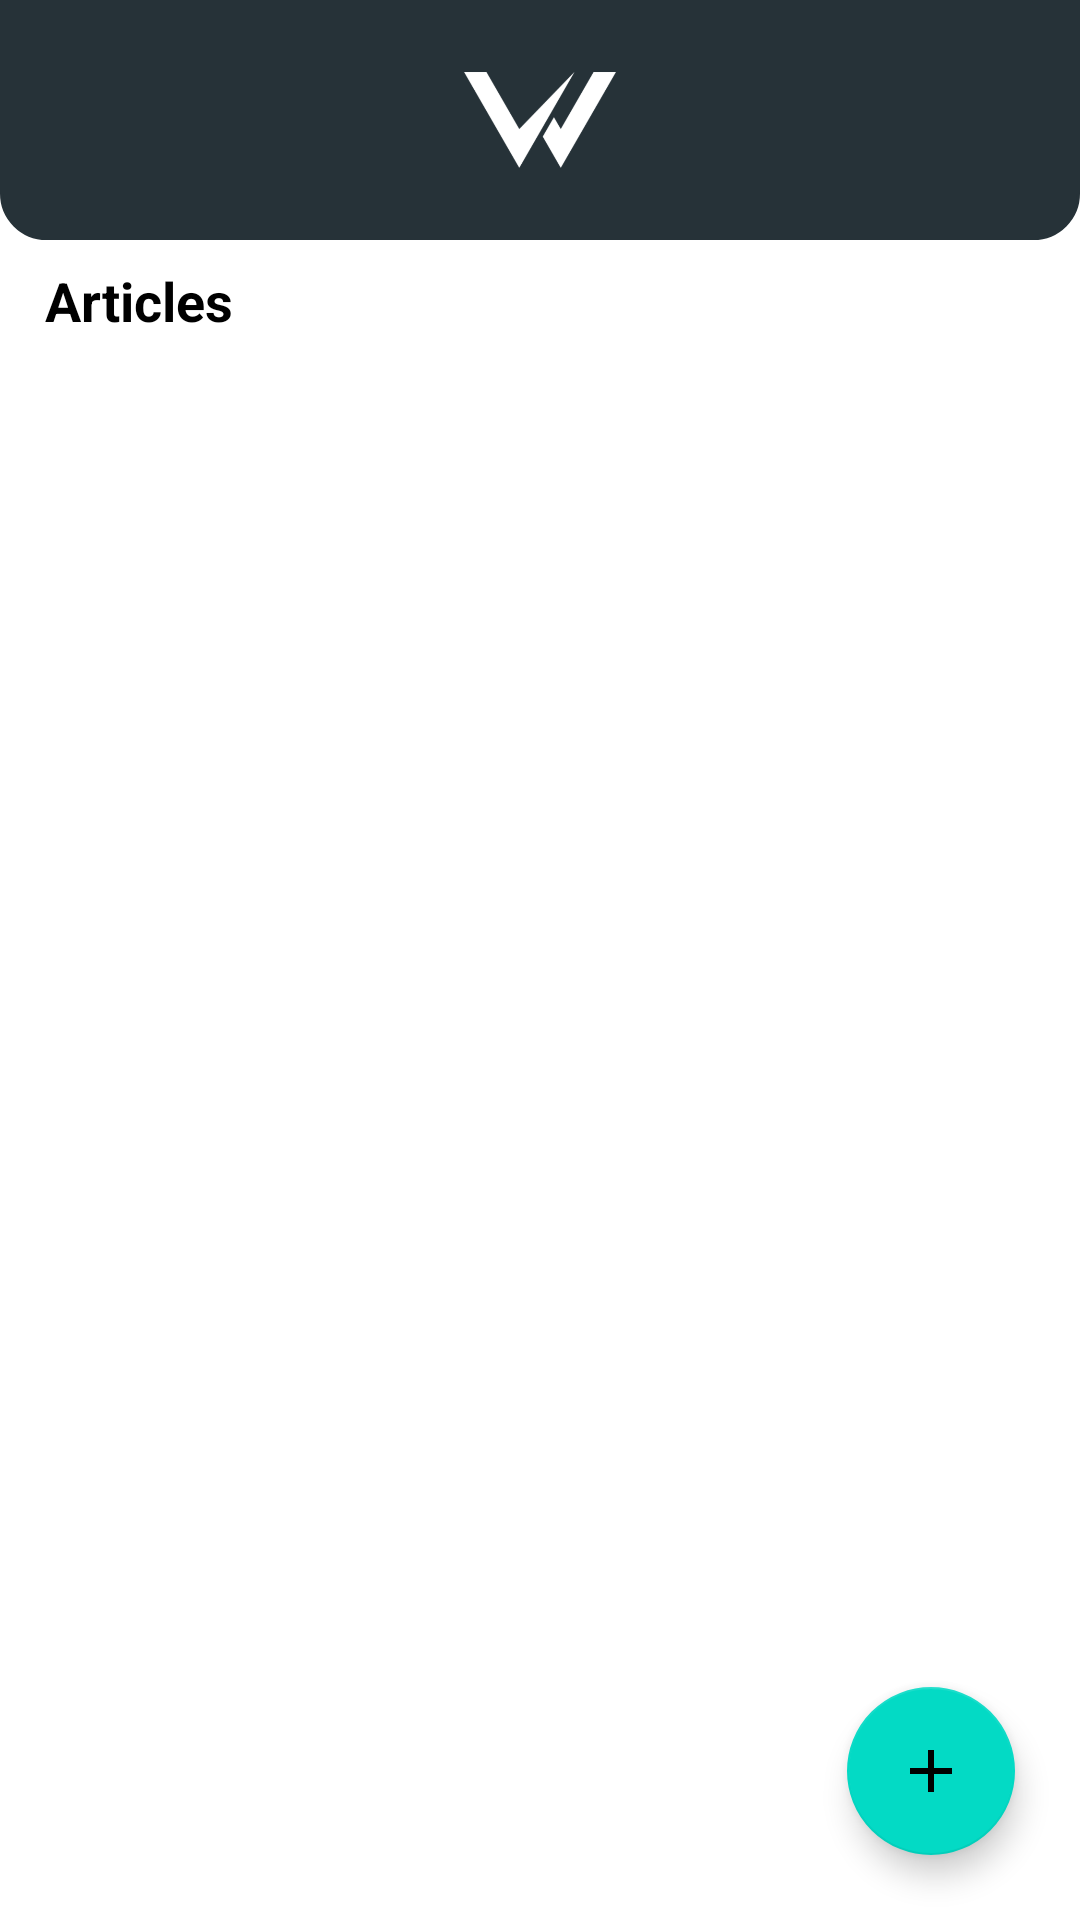

Screen size 1080 × 1920. Icon name, then its box in pixels as (x1, y1, x2, y2):
add: (847, 1687, 1015, 1855)
